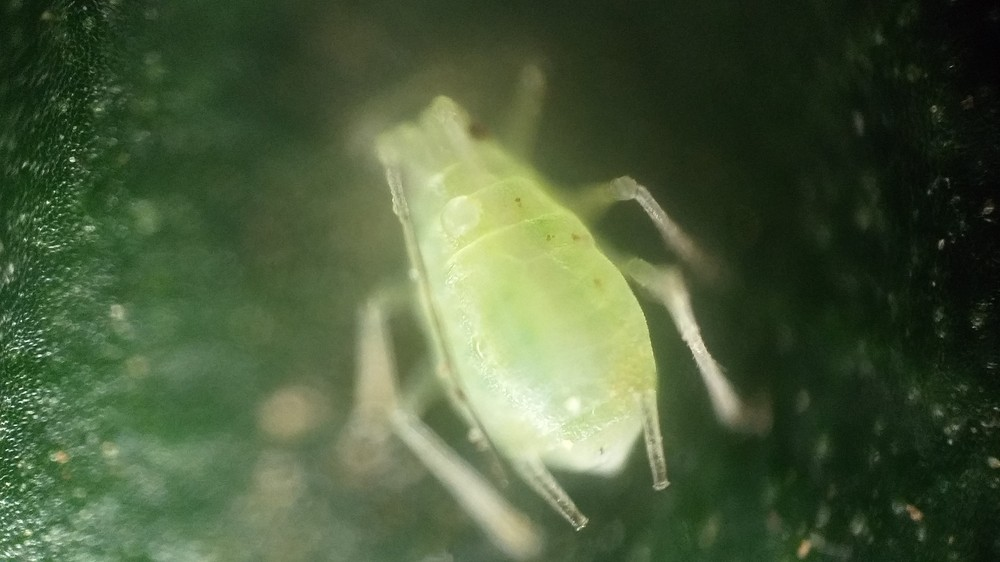Pulgon: (283, 55, 807, 552)
